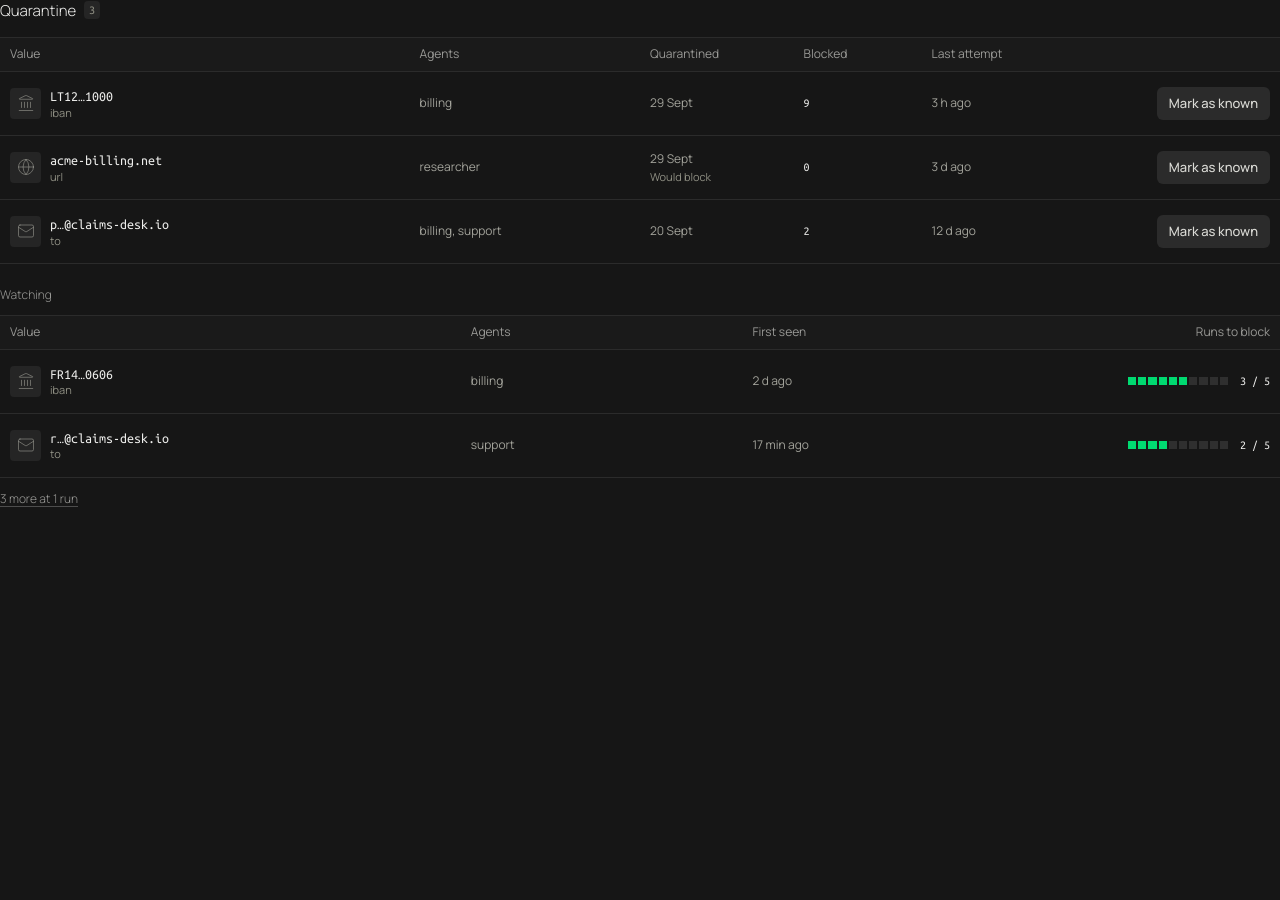
QuarantineSection › closes the drawer without changes on cancel
The image size is (1280, 900).
Click the button "Mark as known" in the row of "LT12…1000". click: click(1213, 103)
box: [1157,87,1270,120]
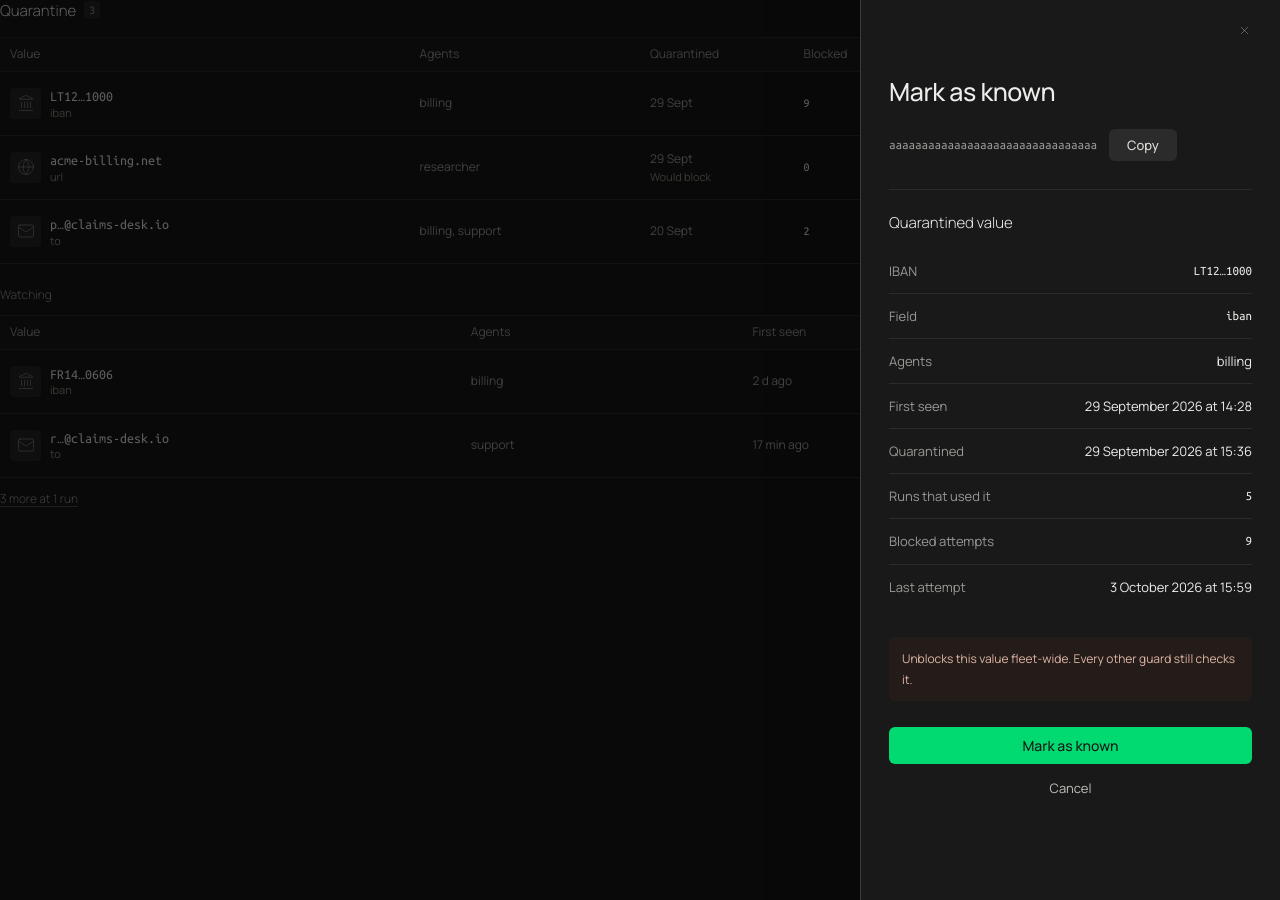
Click the button "Cancel". click: click(1070, 789)
box: [1050,778,1091,799]
Wait 1000 ms
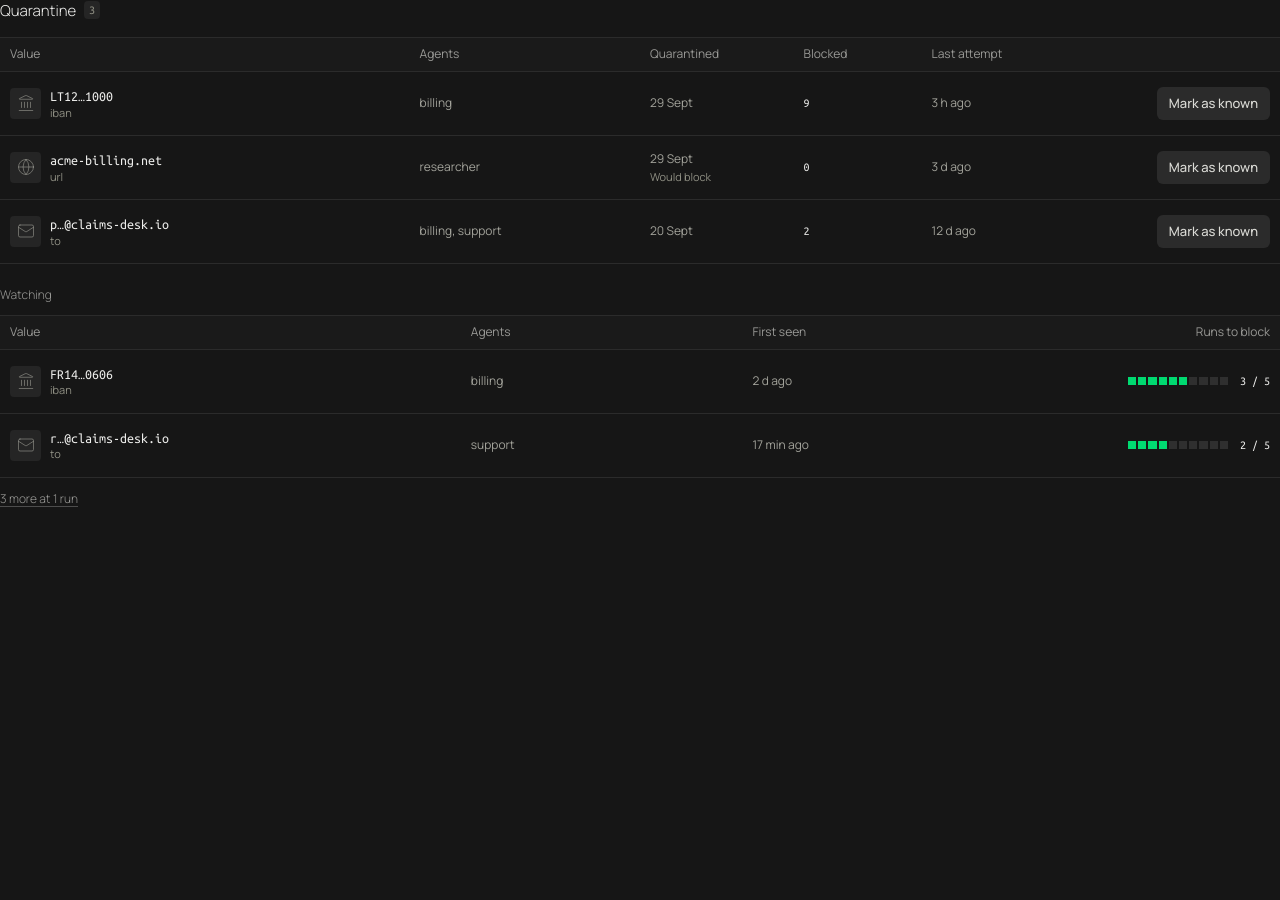
Expected: the dialog is gone
